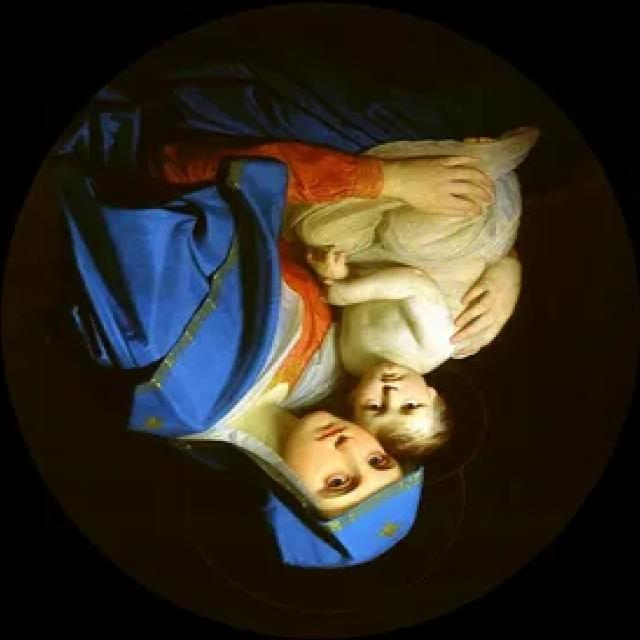mother of god: (54, 77, 542, 578)
